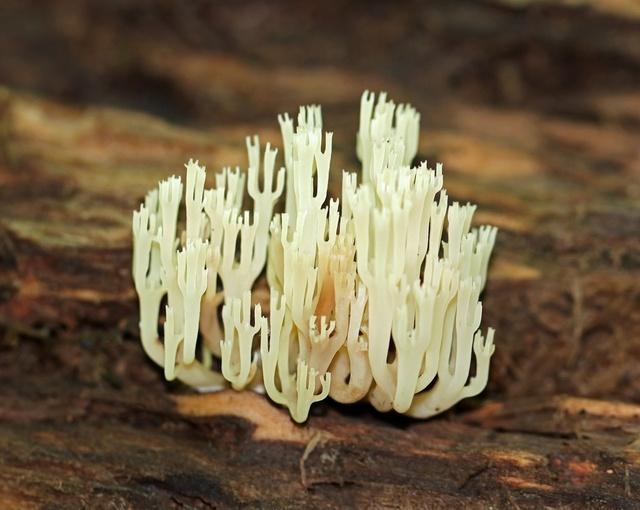Edible Mushroom: (129, 88, 499, 423)
